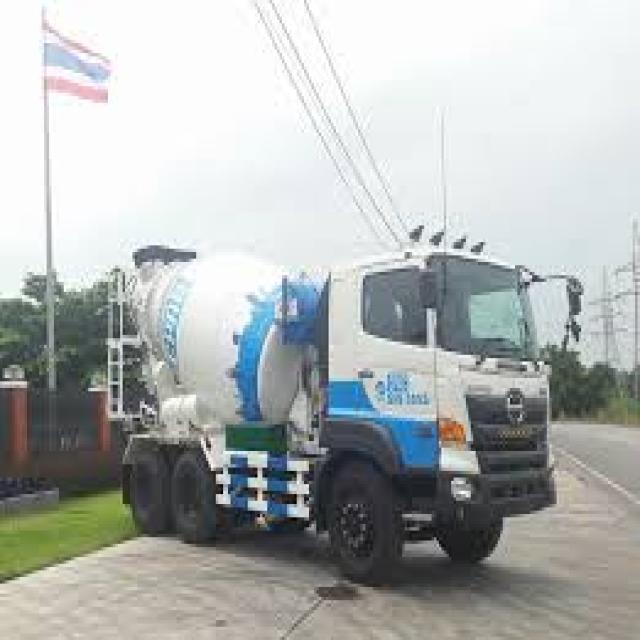cement_mixer_truck: (104, 234, 561, 584)
